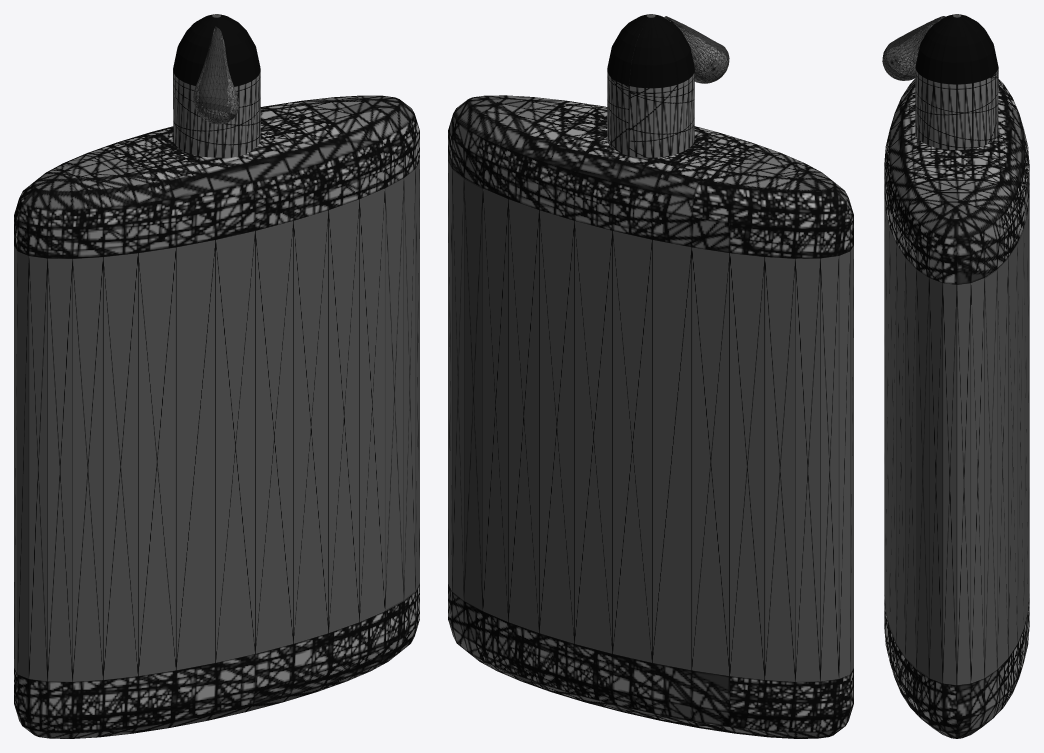
The model's file is Glue.fbx.
The picture shows the model from 3 angles, left to right: view 1: azimuth 30°, elevation 25°; view 2: azimuth 150°, elevation 25°; view 3: azimuth 270°, elevation 25°; orthographic projection. The views are drawn at different scales.
Parts seen in each view (by area): view 1: Cylinder; view 2: Cylinder; view 3: Cylinder.
Boxes of the visible parts, x1,y1,x2,y2 form: Cylinder: [14, 14, 419, 738]; Cylinder: [448, 14, 853, 738]; Cylinder: [882, 14, 1029, 738].
Bounding box in the file's own units: 600 × 977 × 203.
